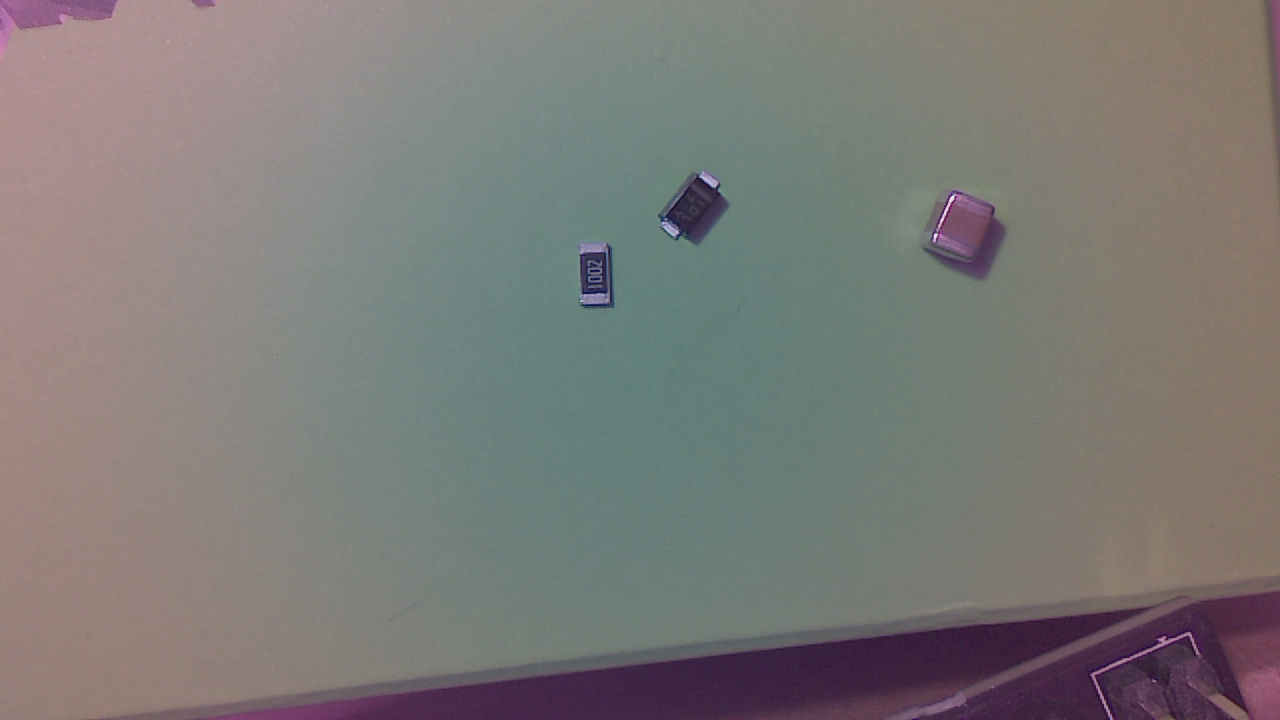Condensator: (927, 196, 1005, 273)
Diode: (660, 177, 729, 244)
Resistor: (581, 247, 620, 315)
